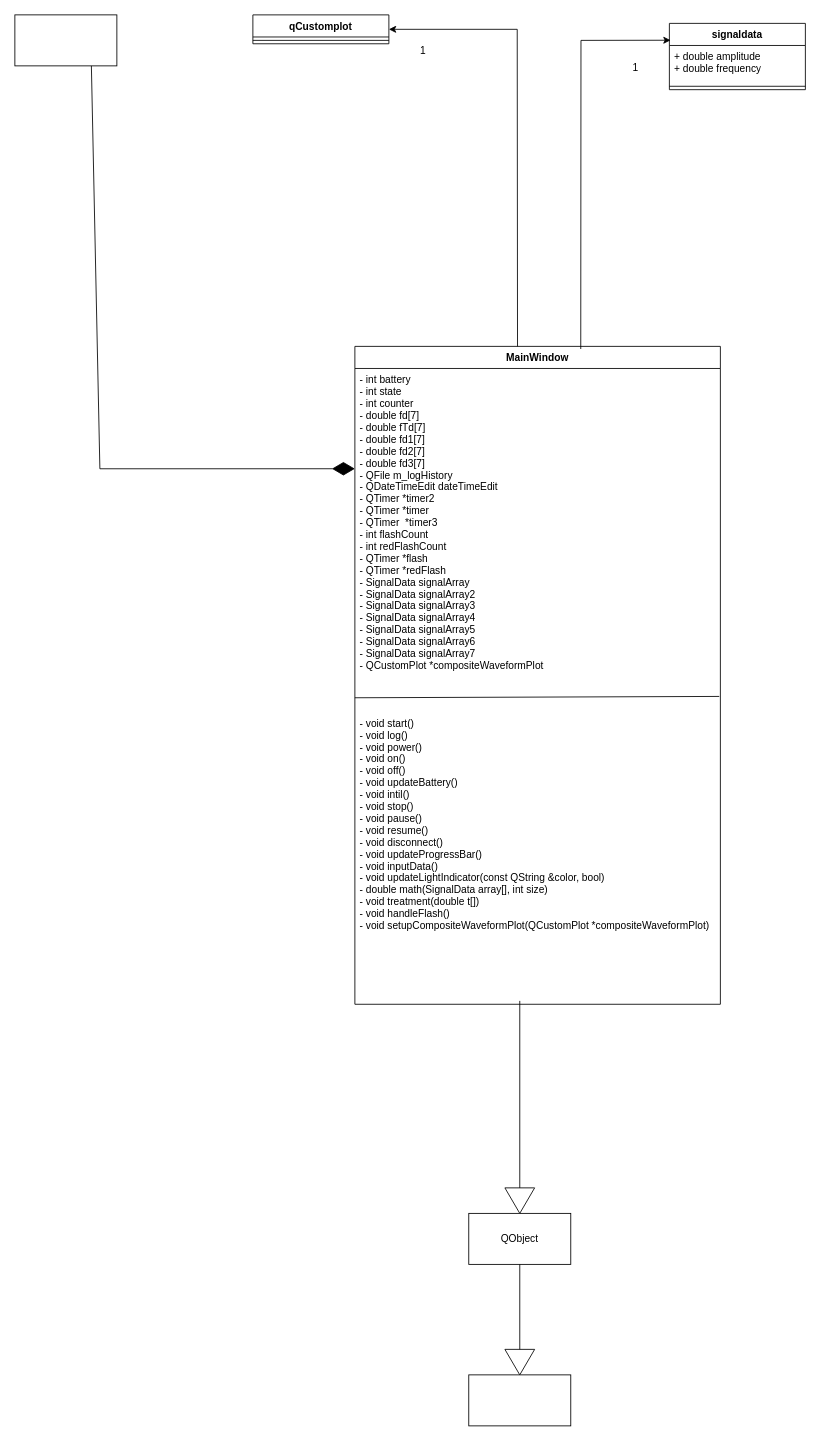
Image size: 820x1441. Some labels were removed from this diagram. Each missing label, with the box of its shape:
QMainWindow: (468, 1374, 571, 1426)
UI: (14, 14, 117, 66)
